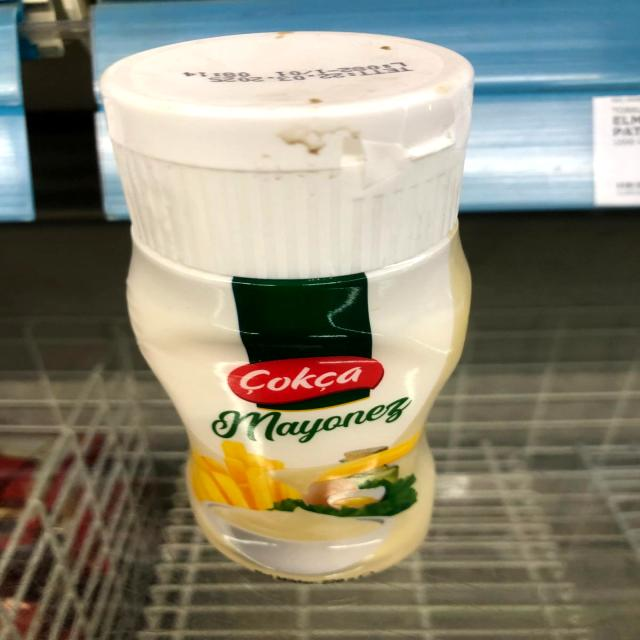mayonnaise: (73, 21, 527, 597)
